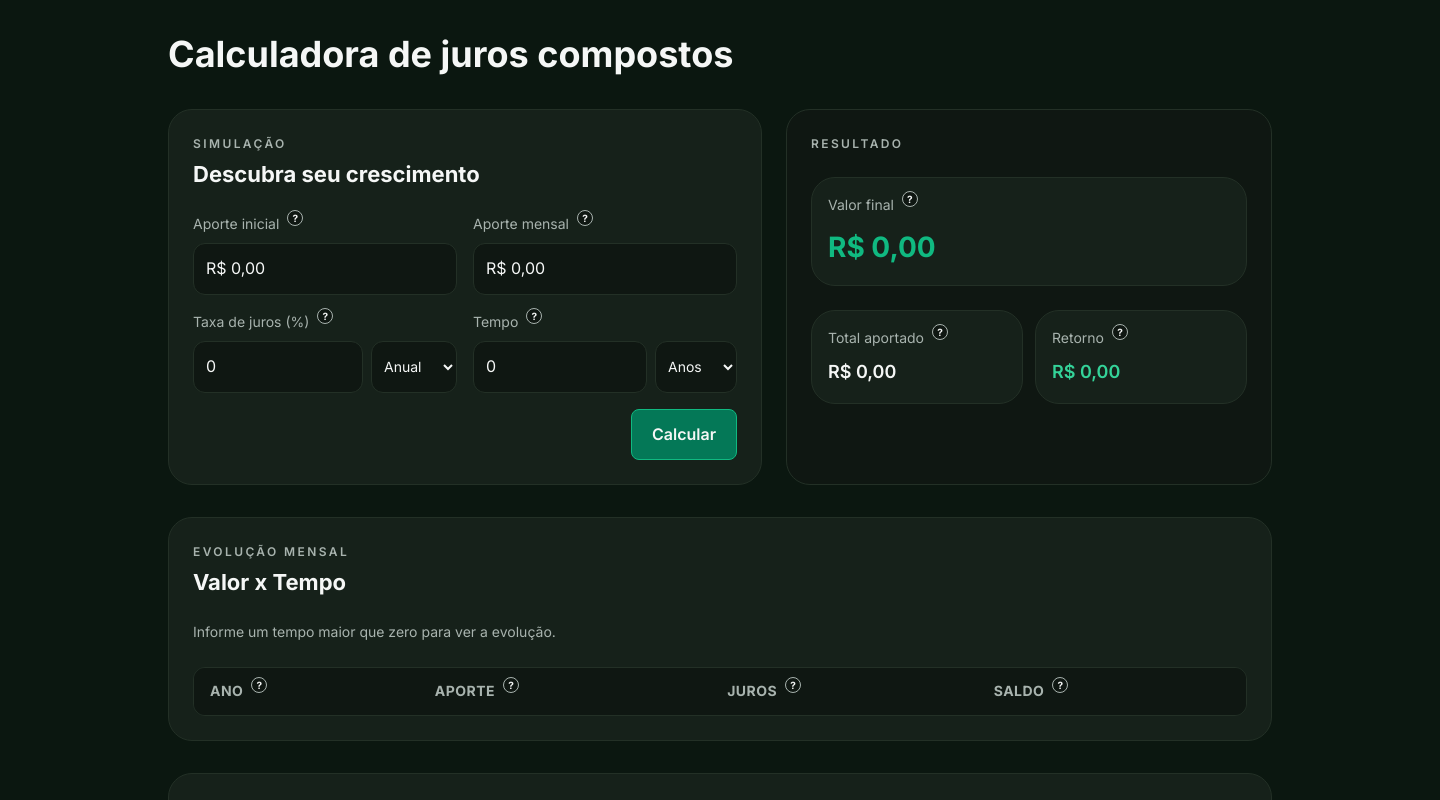
Test: FieldLabel › explains result metrics for each tool
Click the button "?" next to "Retorno" at (1120, 332), box top-left (1112, 324), bottom-right (1128, 340)
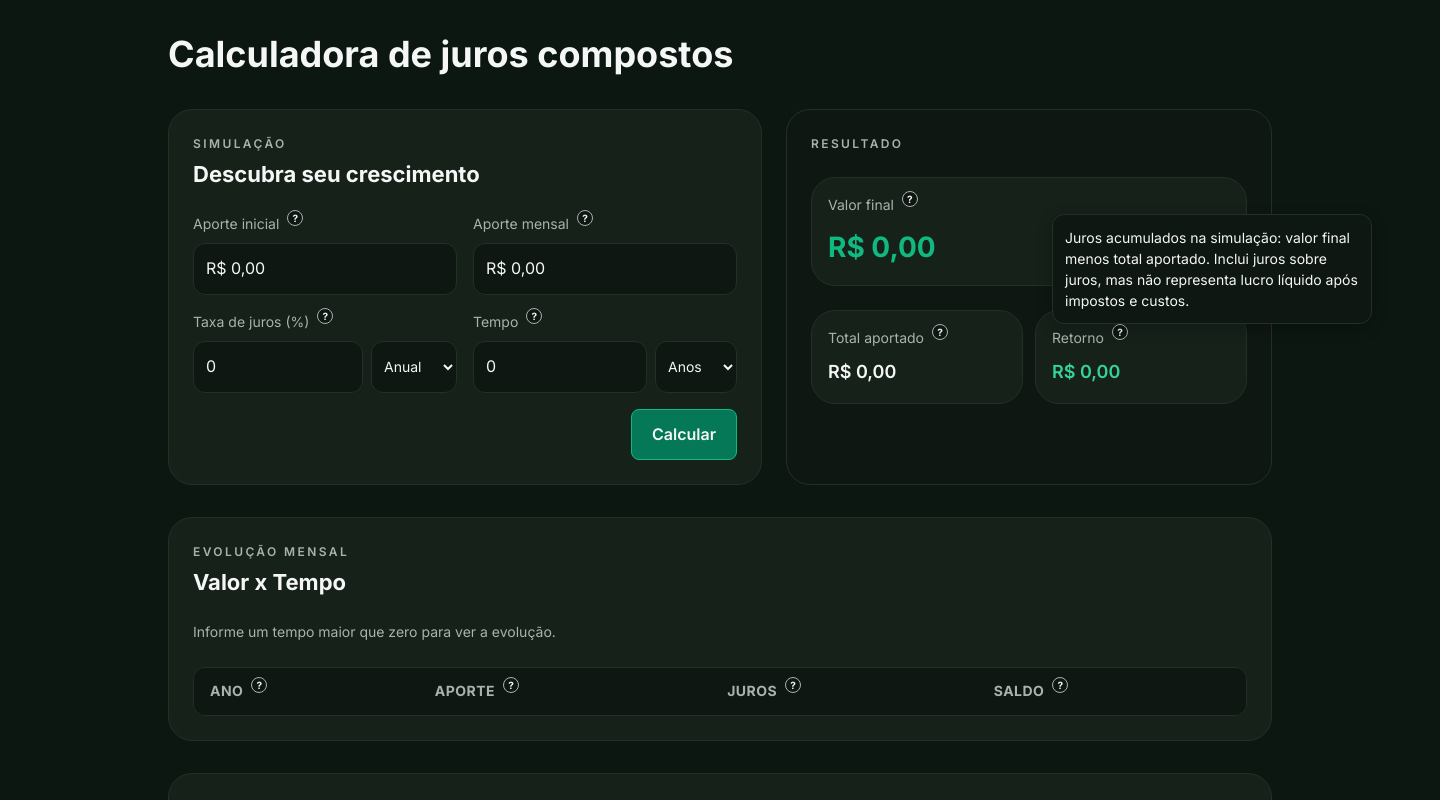
Result: the tooltip shows "valor final menos total aportado" at top-left (1065, 229), bottom-right (1358, 309)
